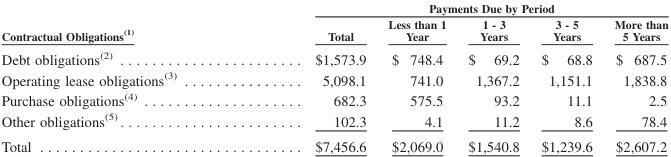table: (0, 0, 667, 153)
table column: (0, 0, 245, 153), (245, 0, 376, 153), (376, 0, 456, 153), (456, 0, 529, 153), (529, 0, 602, 153), (602, 0, 667, 153)
table column header: (0, 0, 667, 45)
table row: (0, 15, 667, 45), (0, 109, 667, 133), (0, 45, 667, 68), (0, 68, 667, 89), (0, 89, 667, 109), (0, 133, 667, 153), (0, 0, 667, 15)
table spanning cell: (0, 0, 245, 45), (245, 0, 667, 15)
